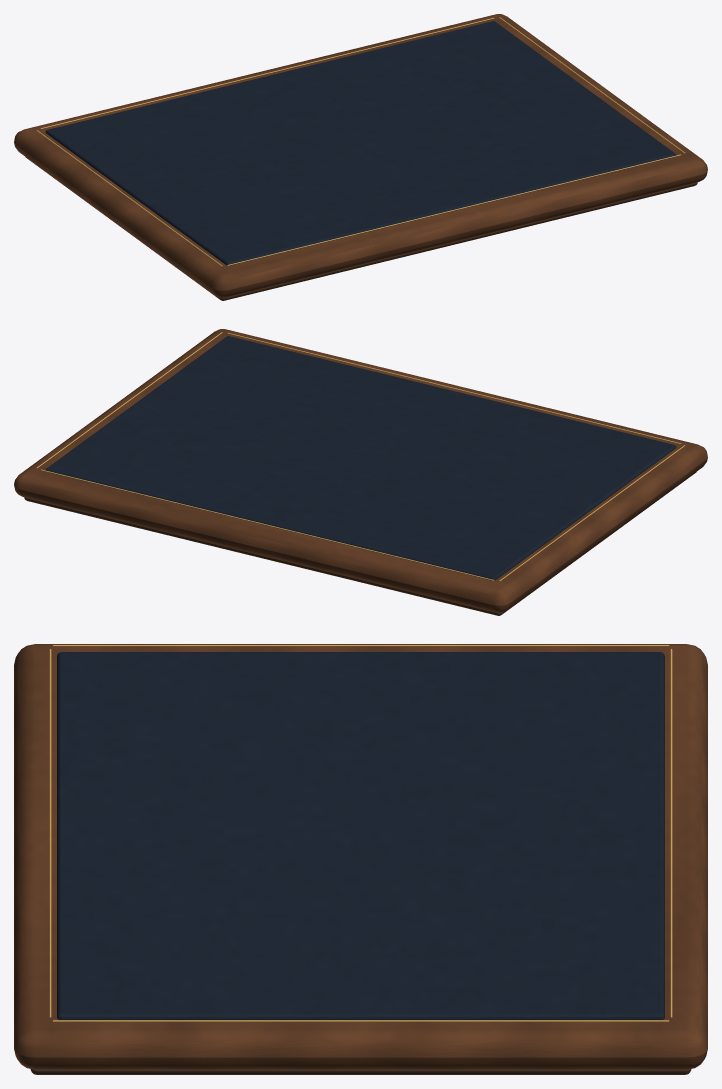
File: splendor-board.glb
The picture shows the model from 3 angles, top to bottom: view 1: azimuth 30°, elevation 25°; view 2: azimuth 150°, elevation 25°; view 3: azimuth 270°, elevation 25°; orthographic projection. The views are drawn at different scales.
Parts seen in each view (by area): view 1: GEO-gameboard_inset_felt, GEO-gameboard_walnut_base, GEO-gameboard_lower_shadow, GEO-board_brass_rail_top, GEO-board_brass_rail_bottom; view 2: GEO-gameboard_inset_felt, GEO-gameboard_walnut_base, GEO-gameboard_lower_shadow, GEO-board_brass_rail_bottom, GEO-board_brass_rail_top; view 3: GEO-gameboard_inset_felt, GEO-gameboard_walnut_base, GEO-gameboard_lower_shadow, GEO-board_brass_rail_left, GEO-board_brass_rail_right, GEO-board_brass_rail_bottom, GEO-board_brass_rail_top.
Part boxes in pixels (x1=…): GEO-gameboard_inset_felt: x1=45, y1=21, x2=676, y2=265; GEO-gameboard_walnut_base: x1=14, y1=14, x2=707, y2=297; GEO-gameboard_lower_shadow: x1=25, y1=157, x2=697, y2=300; GEO-board_brass_rail_top: x1=40, y1=18, x2=494, y2=128; GEO-board_brass_rail_bottom: x1=227, y1=154, x2=680, y2=265; GEO-gameboard_inset_felt: x1=45, y1=336, x2=676, y2=580; GEO-gameboard_walnut_base: x1=14, y1=329, x2=707, y2=612; GEO-gameboard_lower_shadow: x1=24, y1=472, x2=696, y2=615; GEO-board_brass_rail_bottom: x1=227, y1=333, x2=681, y2=443; GEO-board_brass_rail_top: x1=41, y1=469, x2=494, y2=580; GEO-gameboard_inset_felt: x1=57, y1=652, x2=664, y2=1019; GEO-gameboard_walnut_base: x1=14, y1=644, x2=707, y2=1069; GEO-gameboard_lower_shadow: x1=30, y1=1069, x2=691, y2=1074; GEO-board_brass_rail_left: x1=52, y1=645, x2=669, y2=646; GEO-board_brass_rail_right: x1=52, y1=1020, x2=669, y2=1021; GEO-board_brass_rail_bottom: x1=49, y1=649, x2=51, y2=1017; GEO-board_brass_rail_top: x1=670, y1=649, x2=672, y2=1017.
Bounding box in the file's own units: 13 × 0.764 × 9.5.
Materials: 4 (2 with a texture image).
